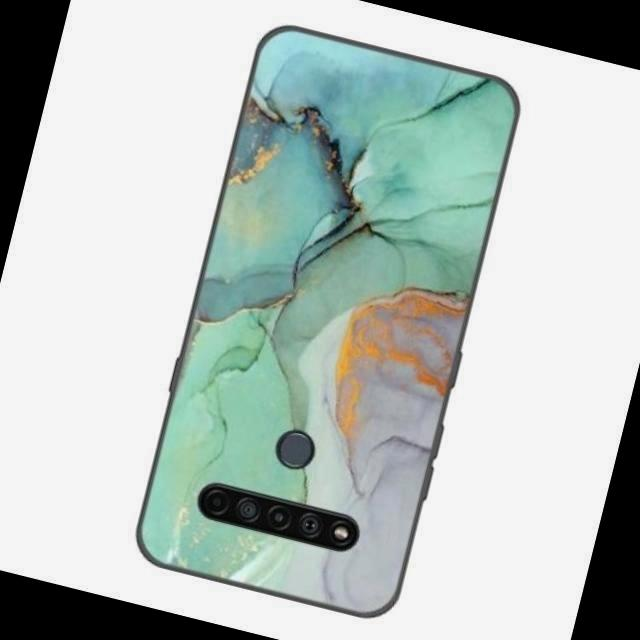lens: (198, 483, 359, 552)
phone: (122, 14, 532, 630)
